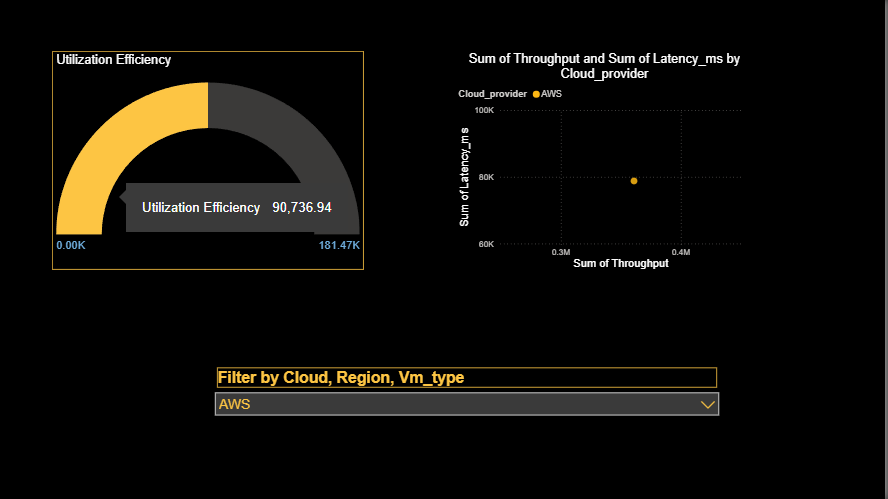

The page's visual inventory and layout, read from the dashboard file:
{"tool":"powerbi","page":{"name":"Page 2","canvas":[1280,720],"ordinal":1},"visuals":[{"type":"gauge","fields":{"Y":["Cloud_Dataset.Utilization Efficiency"]},"box":[79.2,74.9,449.3,315.4],"z":0},{"type":"scatterChart","fields":{"X":["Sum(Cloud_Dataset.Throughput)"],"Y":["Sum(Cloud_Dataset.Latency_ms)"],"Series":["Cloud_Dataset.Cloud_provider"]},"box":[659.5,74.9,430.6,319.7],"z":1000},{"type":"slicer","fields":{"Values":["Cloud_Dataset.Cloud_provider","Cloud_Dataset.Region","Cloud_Dataset.Vm_type"]},"box":[303.8,525.6,745.9,97.9],"z":2000}]}

Visuals, with their boxes in screenshot pixels (x1, y1, x2, y2), scaled from the page's 1280x720 canvas onto the 888x499 screenshot:
gauge - Cloud_Dataset.Utilization Efficiency: Rect(55, 52, 367, 270)
scatterChart - Sum(Cloud_Dataset.Throughput) x Sum(Cloud_Dataset.Latency_ms): Rect(458, 52, 756, 273)
slicer - Cloud_Dataset.Cloud_provider x Cloud_Dataset.Region: Rect(211, 364, 728, 432)
